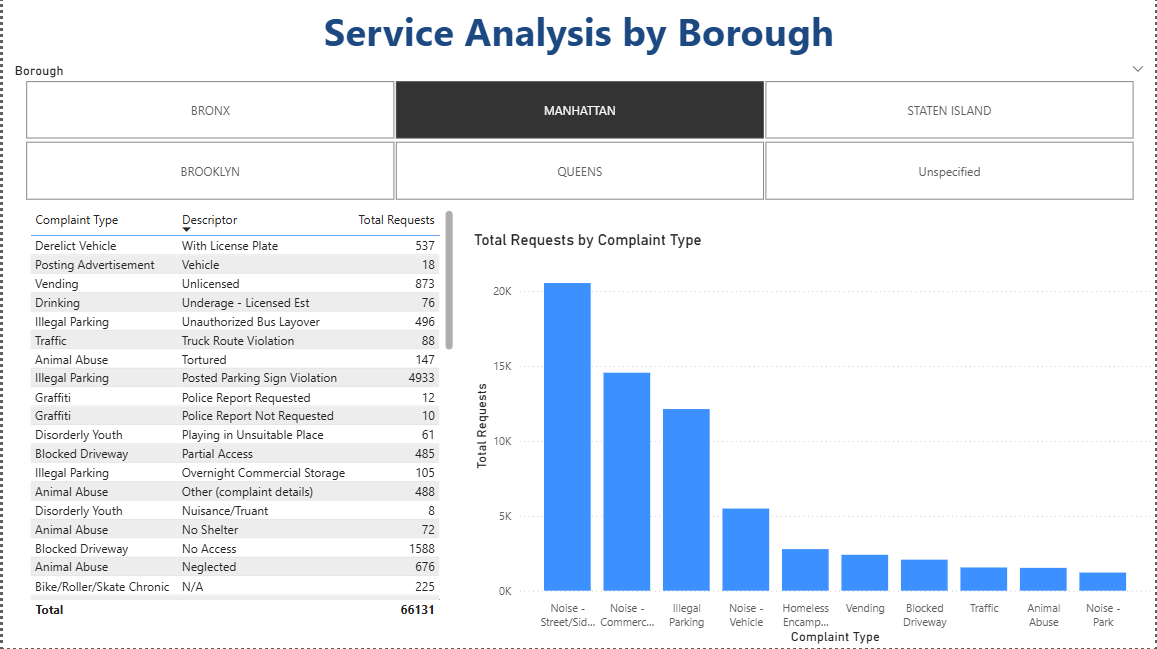

What the dashboard file says about the page in this screenshot:
{"tool":"powerbi","page":{"name":"Service Analysis","canvas":[1280,720],"ordinal":1},"visuals":[{"type":"clusteredColumnChart","fields":{"Category":["NYC311data.Complaint Type"],"Y":["NYC311data.Total Requests"]},"box":[518.3,256.7,761.7,463.3],"z":2},{"type":"tableEx","fields":{"Values":["NYC311data.Complaint Type","NYC311data.Descriptor","NYC311data.Total Requests"]},"box":[25,228.3,480,463.3],"z":3},{"type":"textbox","box":[0,0,1280,83.3],"z":4},{"type":"slicer","fields":{"Values":["NYC311data.Borough"]},"box":[0,65,1280,163.3],"z":5}]}

Visuals, with their boxes in screenshot pixels (x1, y1, x2, y2), scaled from the page's 1280x720 canvas onto the 1157x649 screenshot:
clusteredColumnChart - NYC311data.Complaint Type x NYC311data.Total Requests: [left=468, top=231, right=1156, bottom=648]
tableEx - NYC311data.Complaint Type x NYC311data.Descriptor: [left=23, top=206, right=456, bottom=623]
textbox: [left=0, top=0, right=1156, bottom=75]
slicer - NYC311data.Borough: [left=0, top=59, right=1156, bottom=206]
